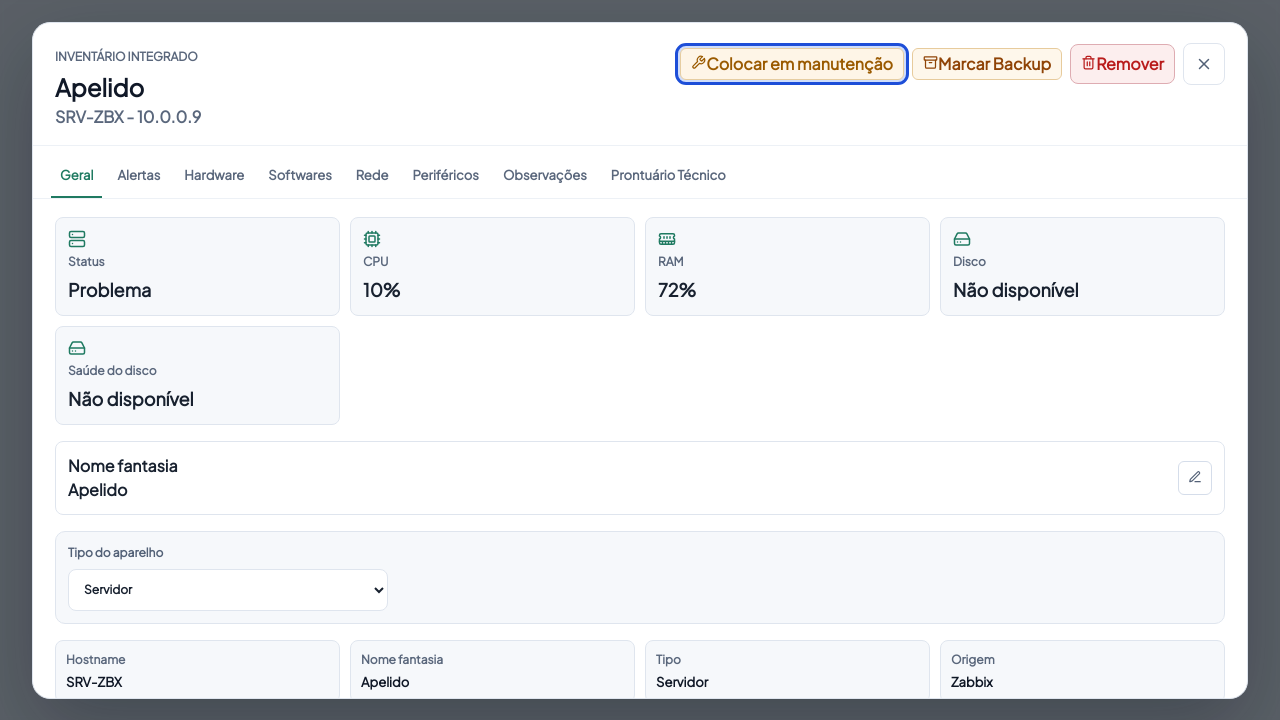
Test: MachineDetailsModal — demais abas › mostra mensagem de discos ausentes em máquina não manual
Click the button "Hardware" at (214, 177), box top-left (175, 156), bottom-right (253, 198)
(page scrolled)
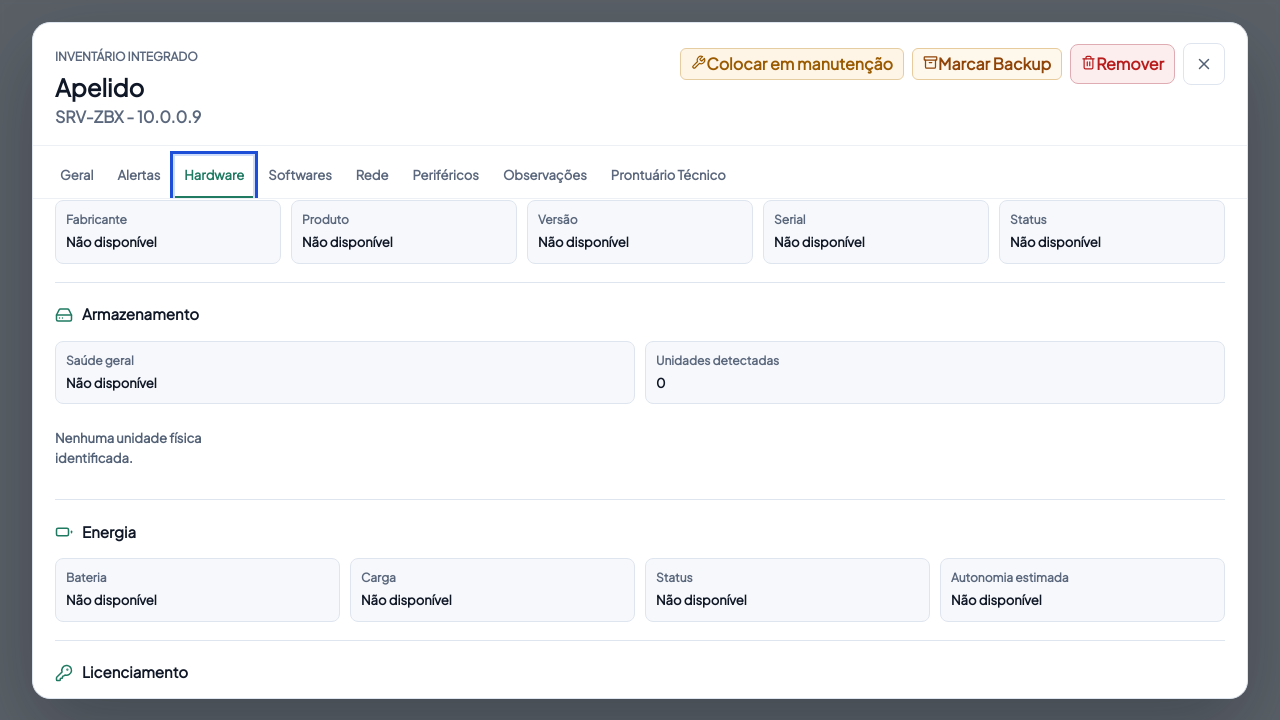
Check: the text "Nenhuma unidade física identificada." is shown, box top-left (55, 430), bottom-right (202, 466)
